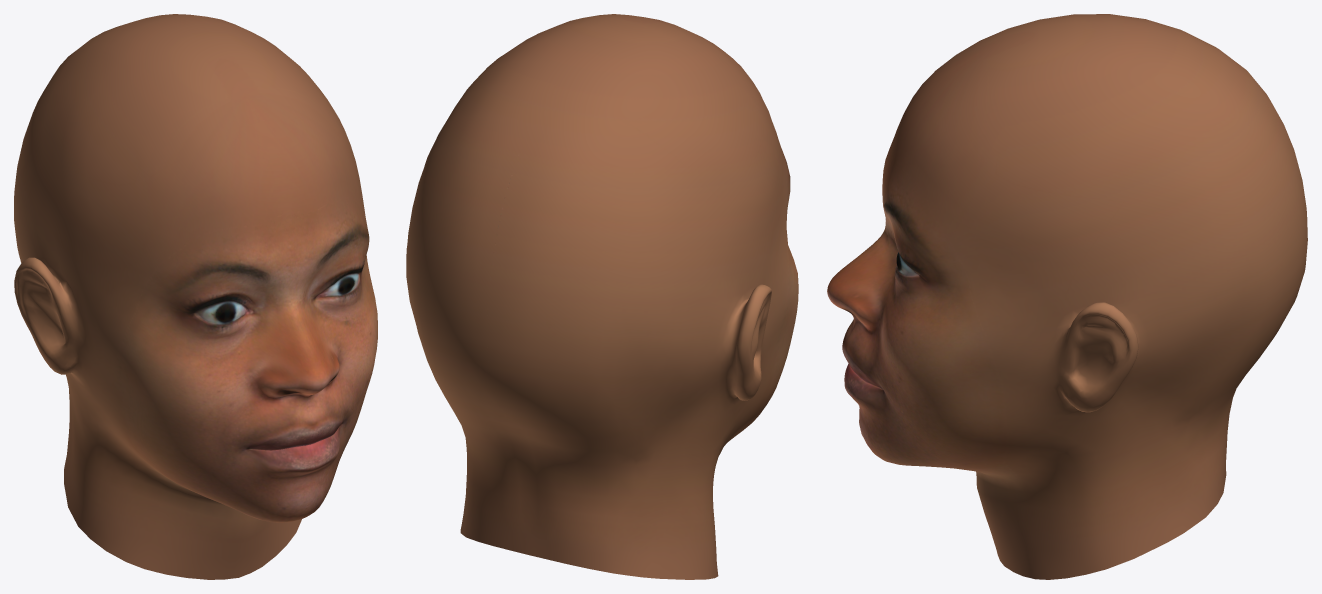
The model's file is v332_obj_ModifierEyeSquintLeft.obj.
3 views of the same model, side by side, from view 1: azimuth 30°, elevation 25°; view 2: azimuth 150°, elevation 25°; view 3: azimuth 270°, elevation 25° (orthographic). The views are drawn at different scales.
Parts seen in each view (by area): view 1: HeadHires; view 2: HeadHires; view 3: HeadHires.
Boxes of the visible parts, x1,y1,x2,y2 form: HeadHires: (14, 14, 377, 579); HeadHires: (406, 14, 798, 579); HeadHires: (827, 14, 1307, 579).
Size of the model in its own units: 187 by 282 by 233.
